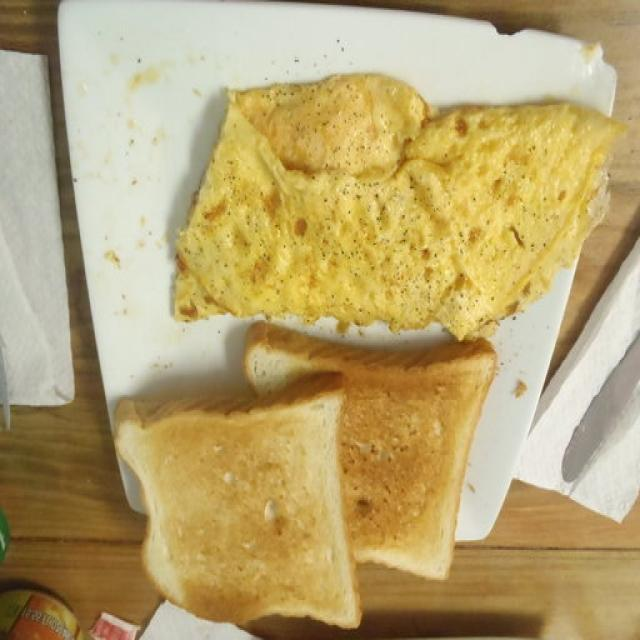telur_ayam_dadar: (171, 73, 625, 344)
